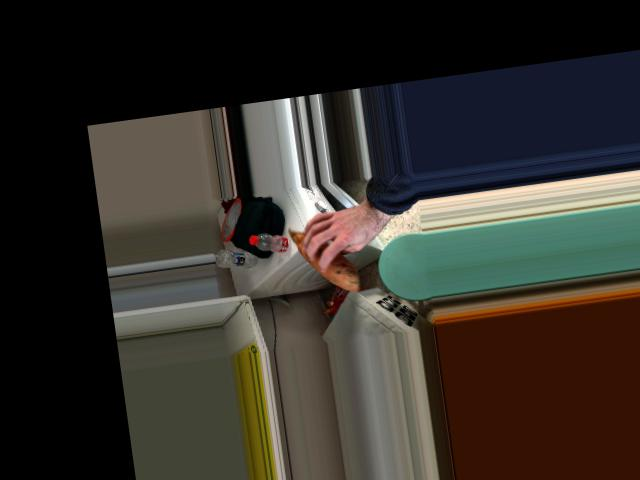sweet_potato: (290, 216, 359, 294)
